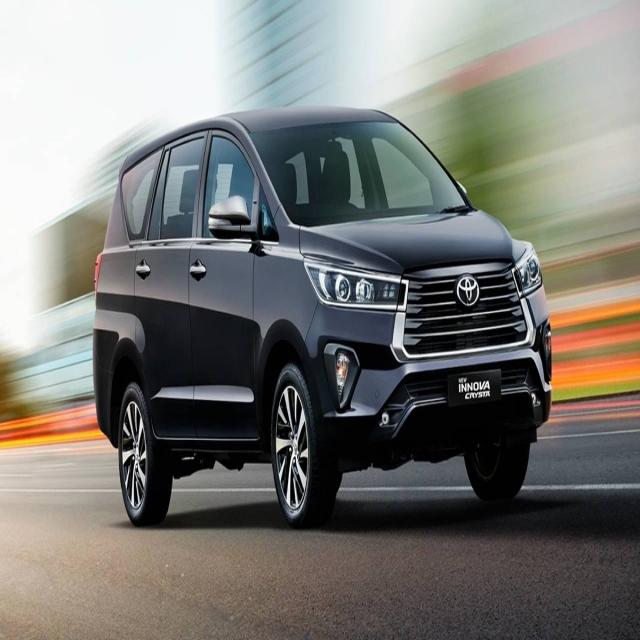light_vehicle: (92, 107, 554, 530)
